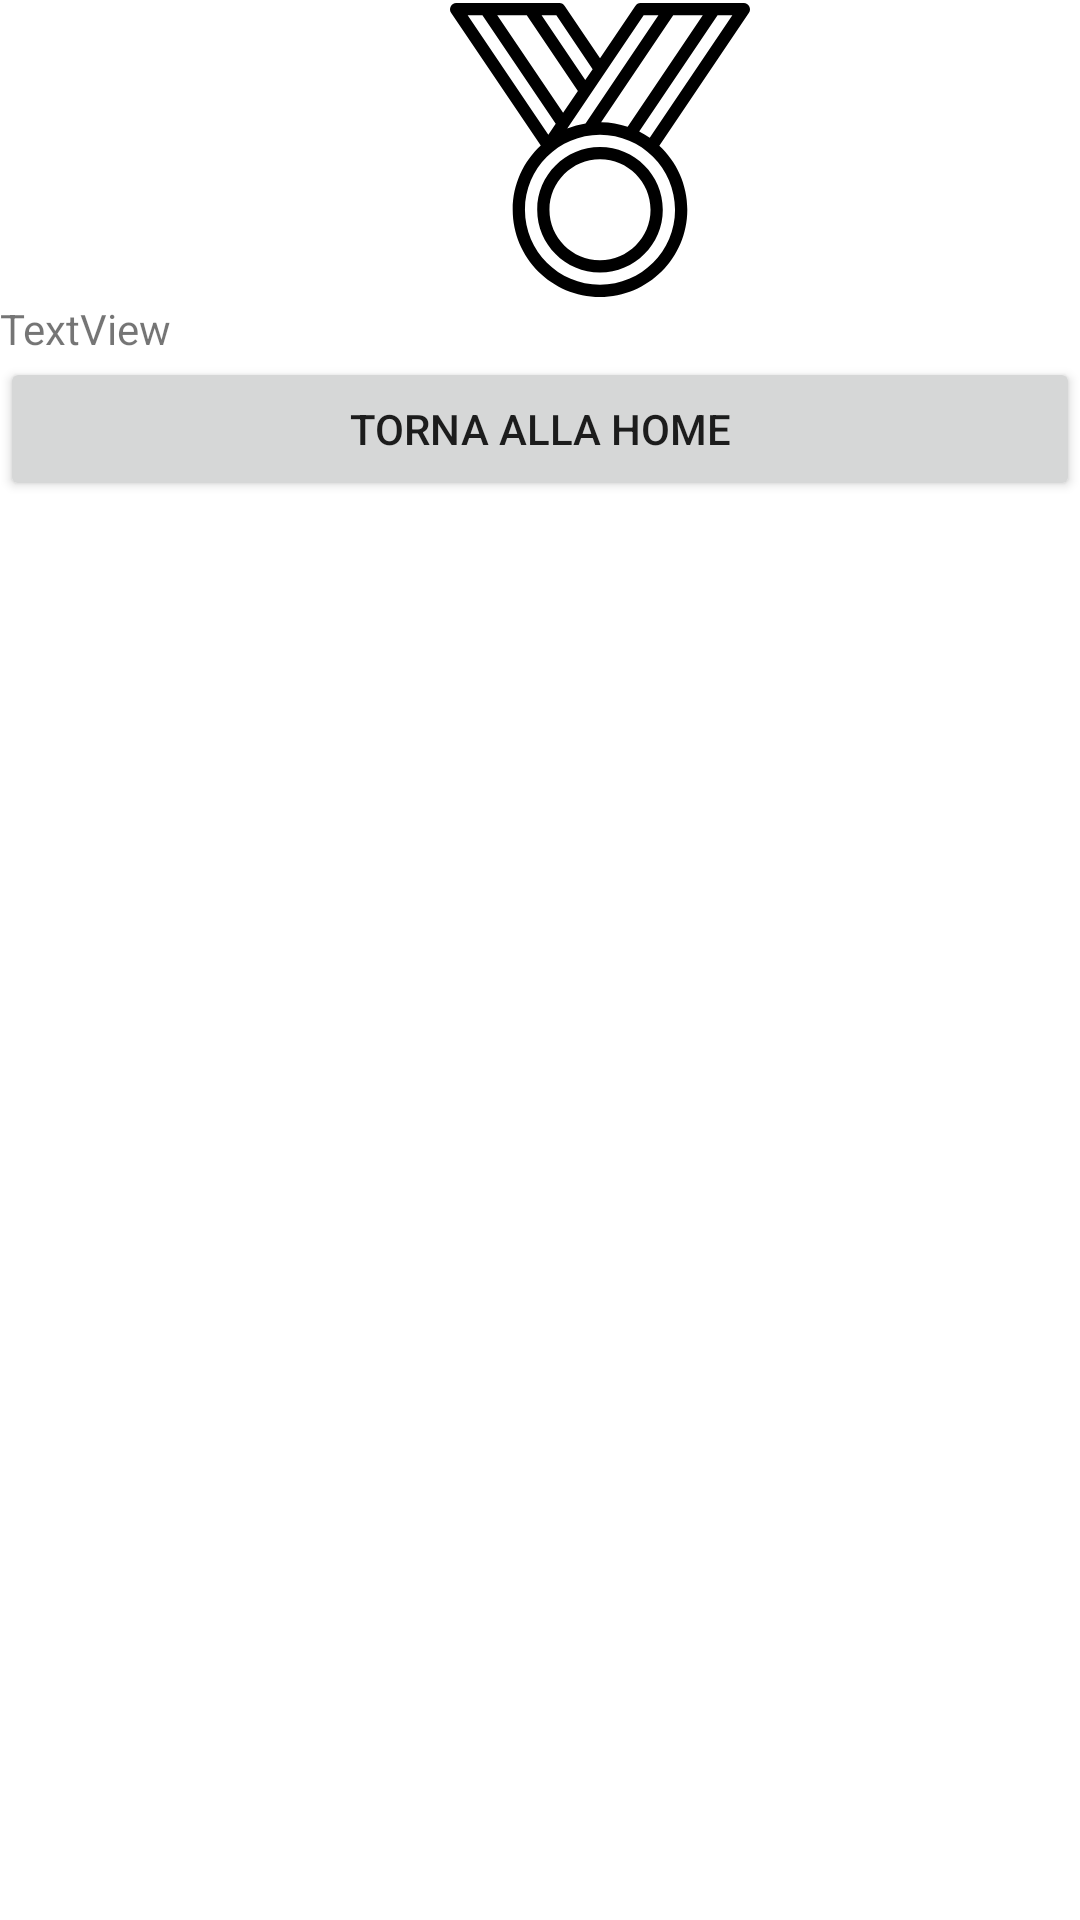

Named icons in this screenshot (1080 × 1920) and their centers, (x=x, y=y):
medaglia: (x=600, y=150)
